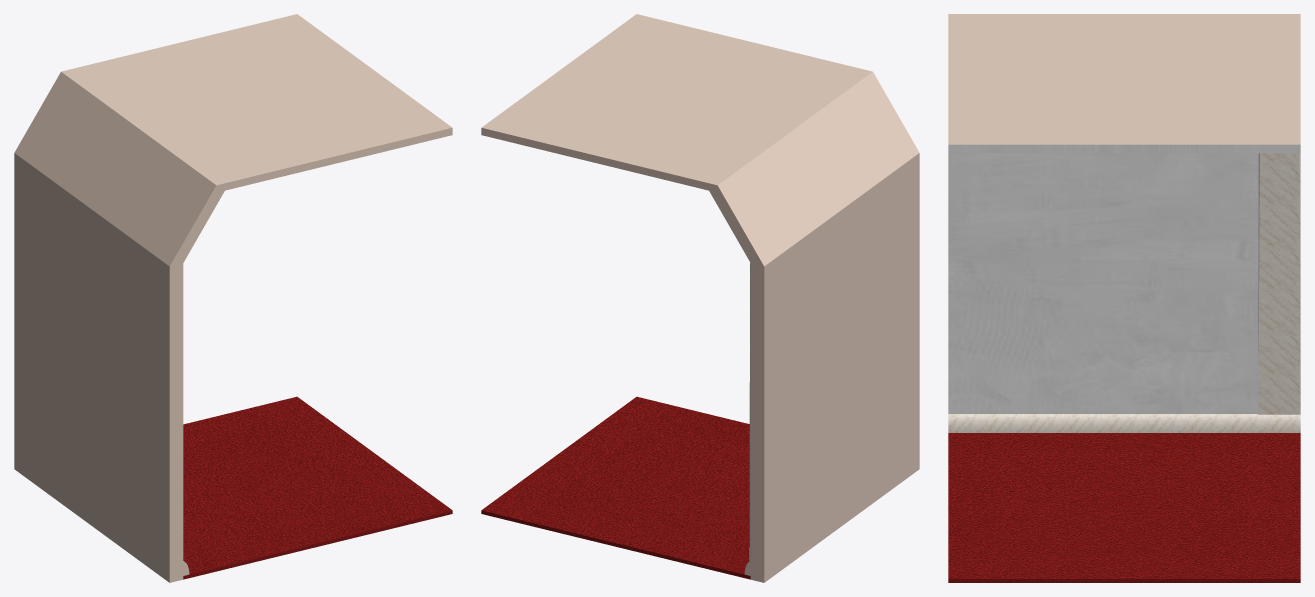
The model's file is Modulo pared c.fbx.
3 views of the same model, side by side, from view 1: azimuth 30°, elevation 25°; view 2: azimuth 150°, elevation 25°; view 3: azimuth 270°, elevation 25° (orthographic). The views are drawn at different scales.
Parts seen in each view (by area): view 1: Pared y piso con columna; view 2: Pared y piso con columna; view 3: Pared y piso con columna.
Part boxes in pixels (bbox=[...]): Pared y piso con columna: bbox=[14, 14, 452, 582]; Pared y piso con columna: bbox=[481, 14, 919, 582]; Pared y piso con columna: bbox=[948, 14, 1300, 582].
Size of the model in its own units: 421 by 549 by 401.
Materials: 4 (3 with a texture image).
